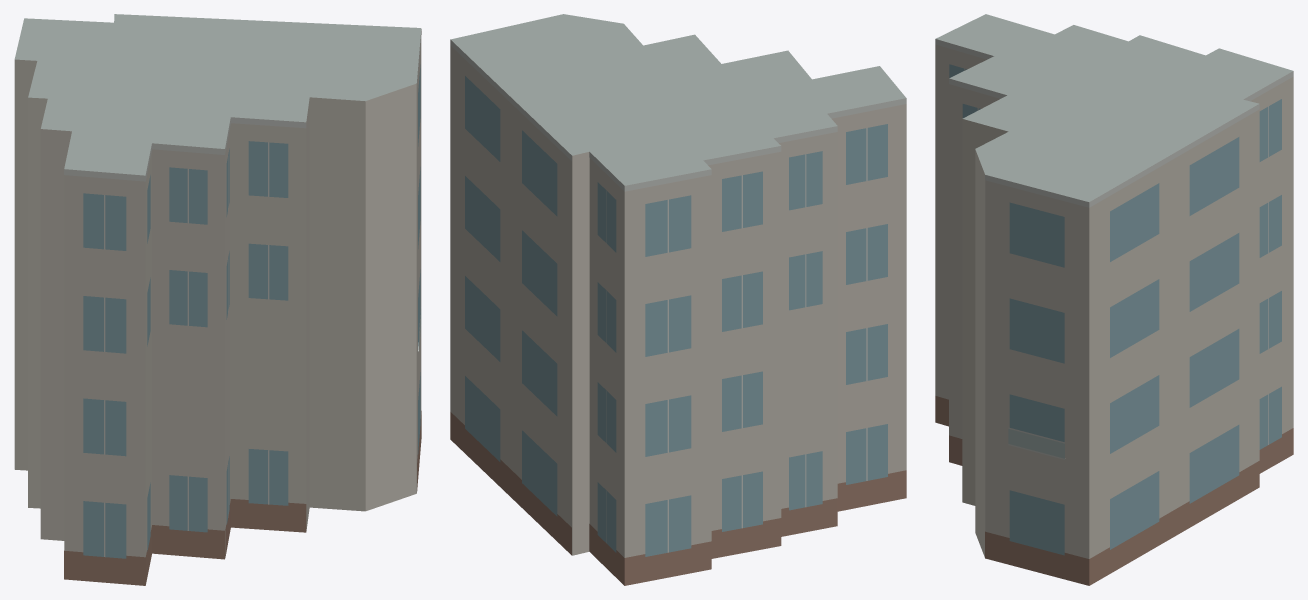
Rendered from survey-upis-32487837.glb.
3 views of the same model, side by side, from view 1: azimuth 30°, elevation 25°; view 2: azimuth 150°, elevation 25°; view 3: azimuth 270°, elevation 25° (orthographic). The views are drawn at different scales.
Parts seen in each view (by area): view 1: survey-upis-32487837.tmp; view 2: survey-upis-32487837.tmp; view 3: survey-upis-32487837.tmp.
Boxes of the visible parts, x1,y1,x2,y2 form: survey-upis-32487837.tmp: [14, 14, 421, 585]; survey-upis-32487837.tmp: [450, 14, 906, 585]; survey-upis-32487837.tmp: [935, 14, 1293, 585].
Bounding box in the file's own units: 17.58 × 16.7 × 14.14.
